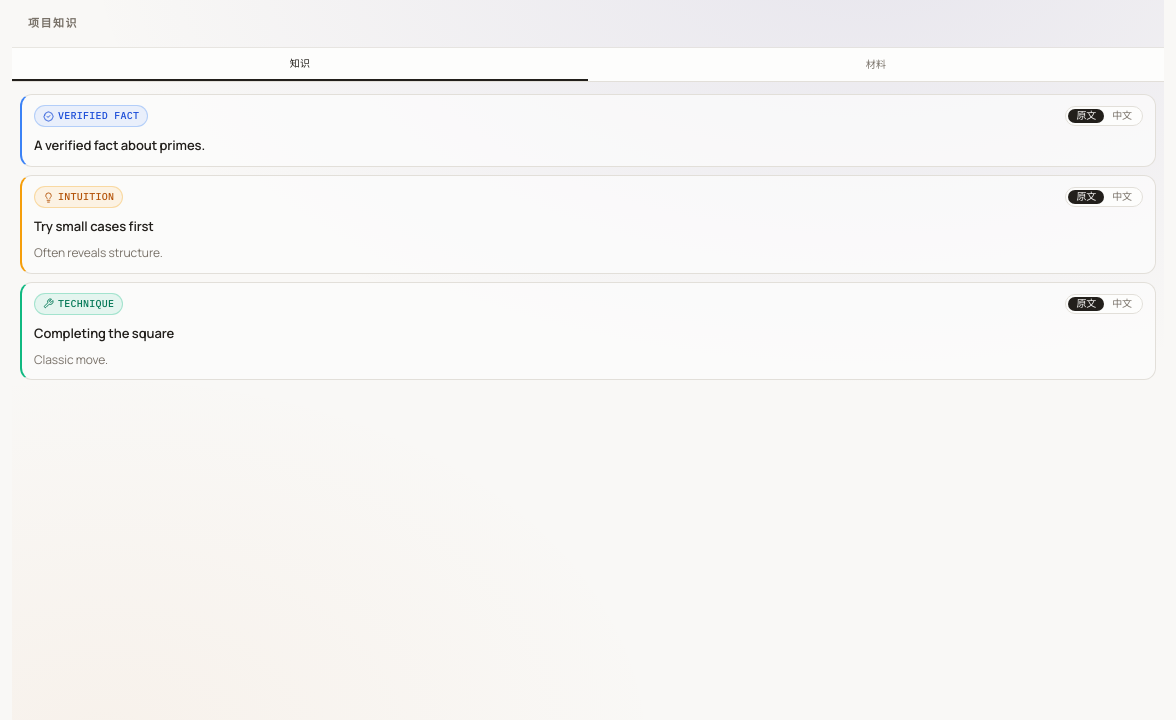
Test: KnowledgePanel › renders the merged knowledge tab with facts, intuitions and tricks together
Check: the tab "知识" is shown, box [12, 48, 588, 81]
Check: the text "A verified fact about primes." is shown, box [34, 136, 205, 154]
Click the tab "材料" at (876, 64), box [588, 49, 1164, 80]
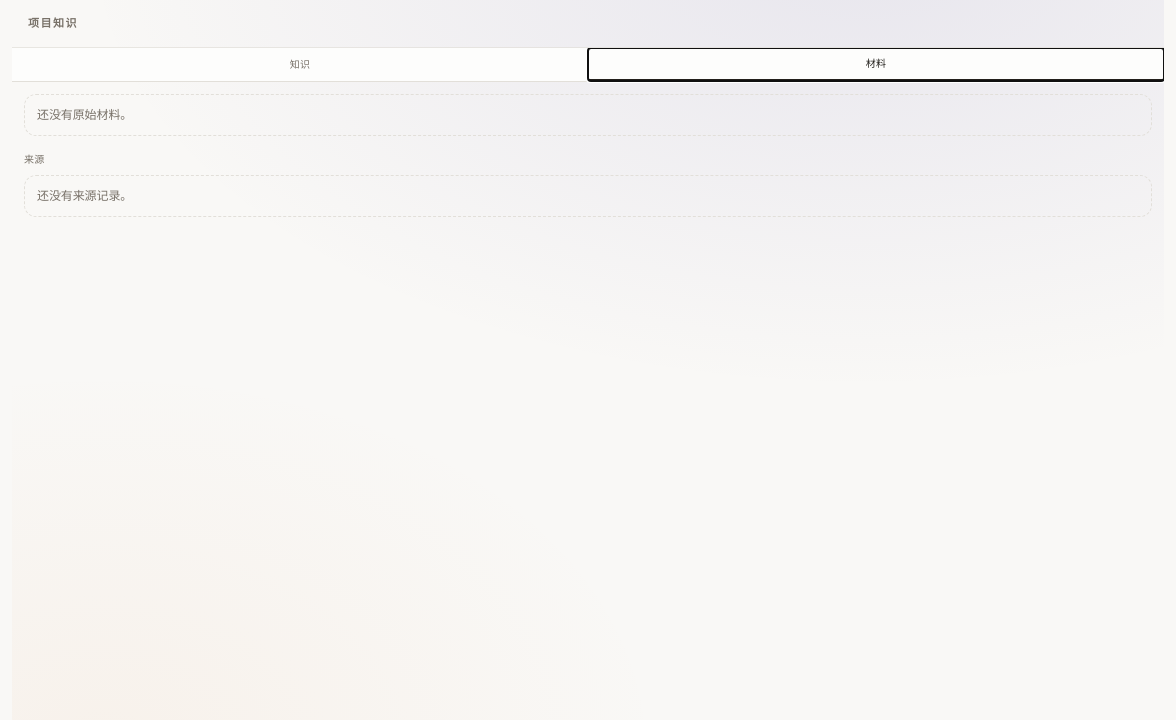
Check: the list item "还没有原始材料。" is shown, box [24, 94, 1152, 136]
